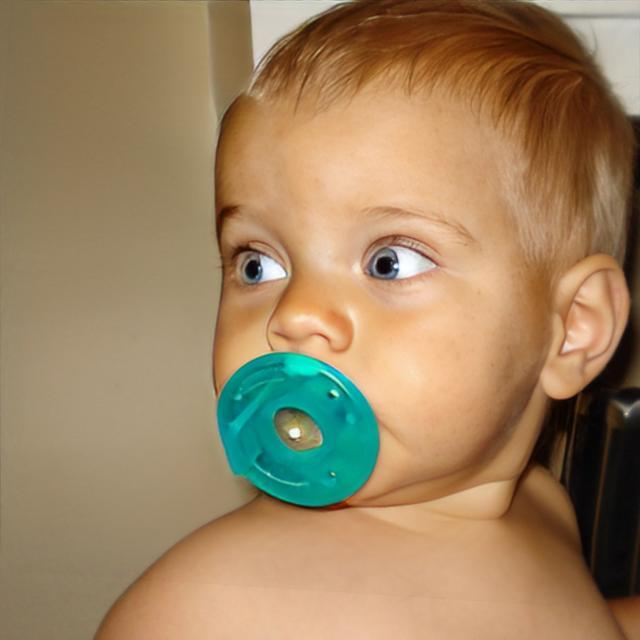fear: (212, 86, 551, 512)
